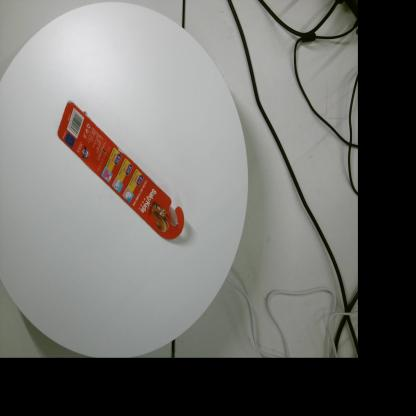Personal Hygiene: (57, 100, 185, 240)
